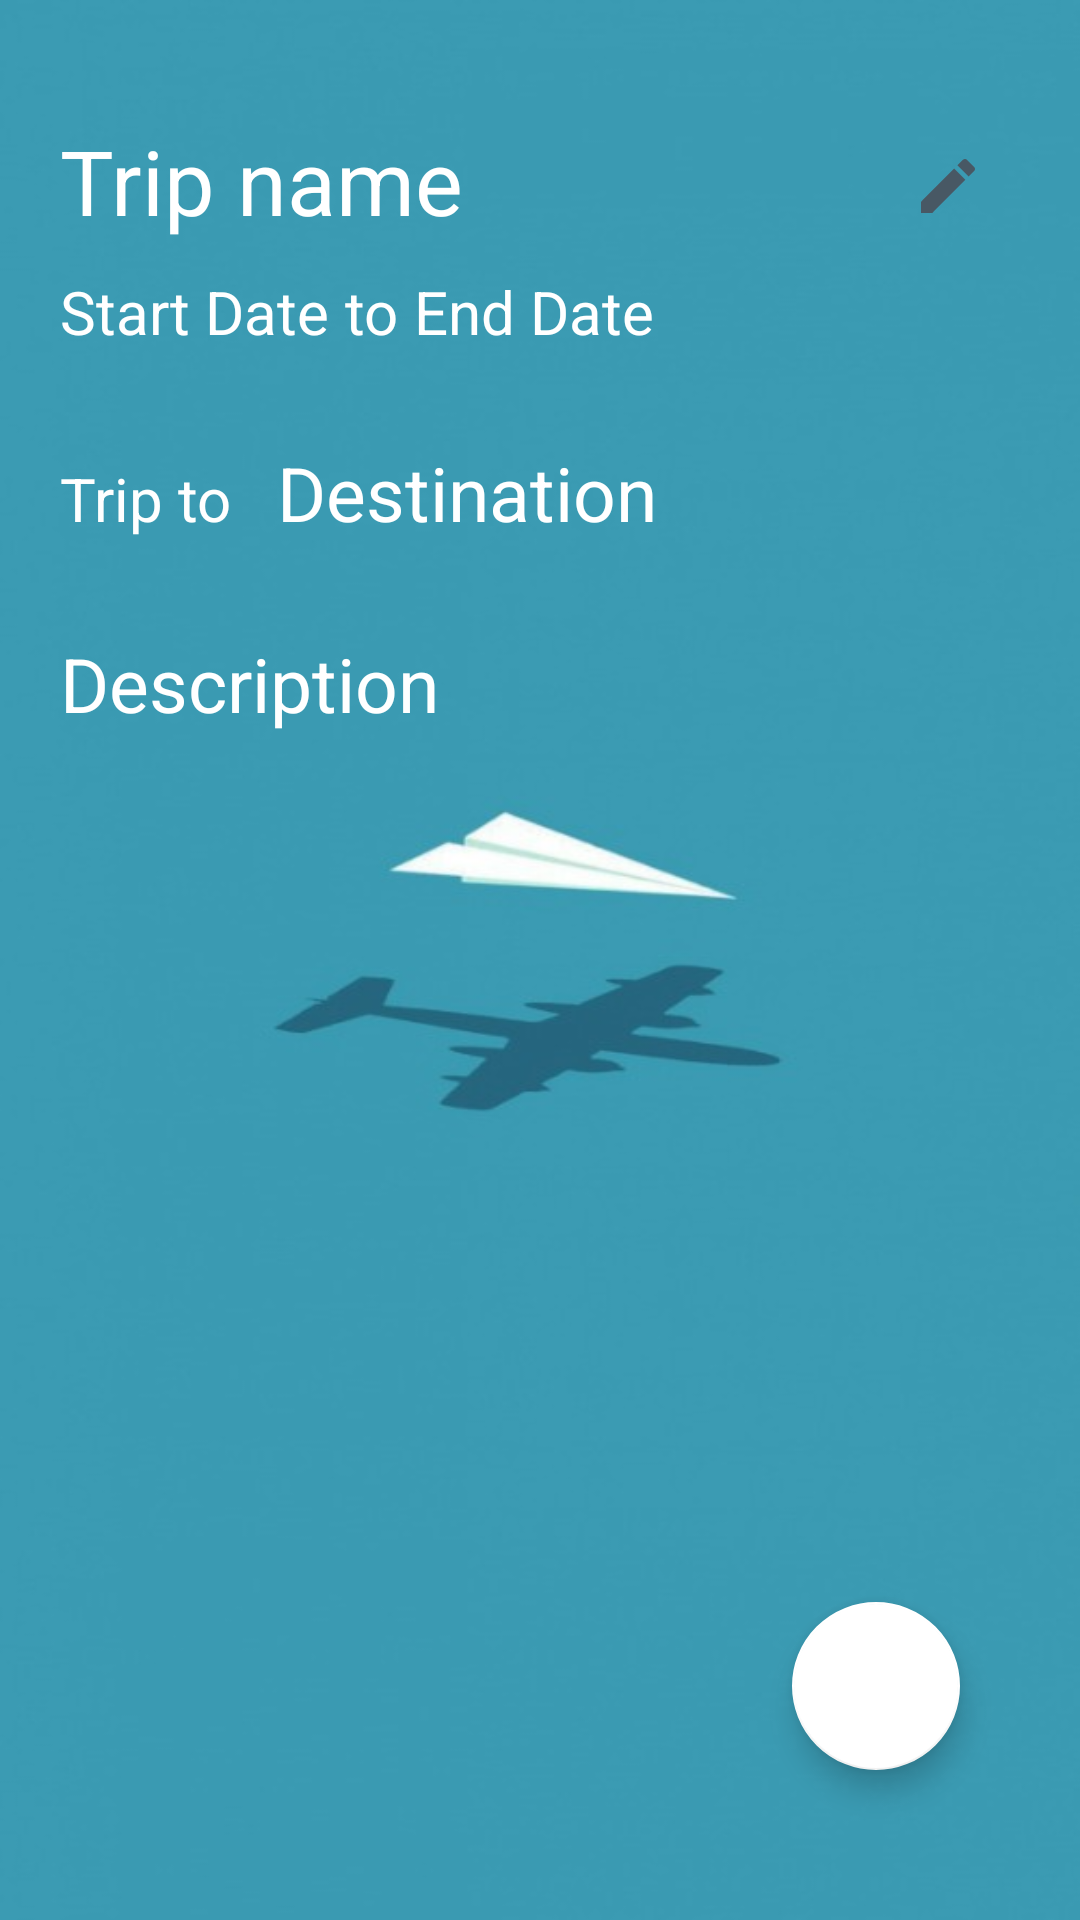

Named icons in this screenshot (1080*1920) and their centers, (x=x, y=y):
edit: (x=948, y=186)
